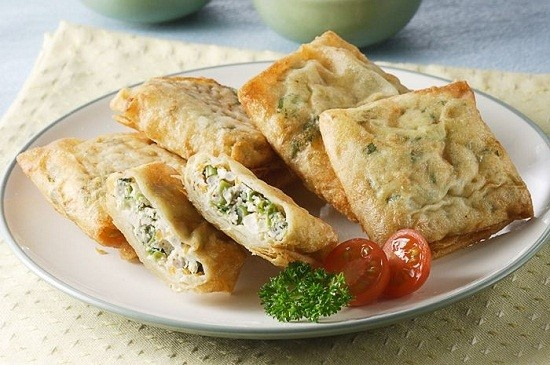martabak: (15, 29, 534, 295)
